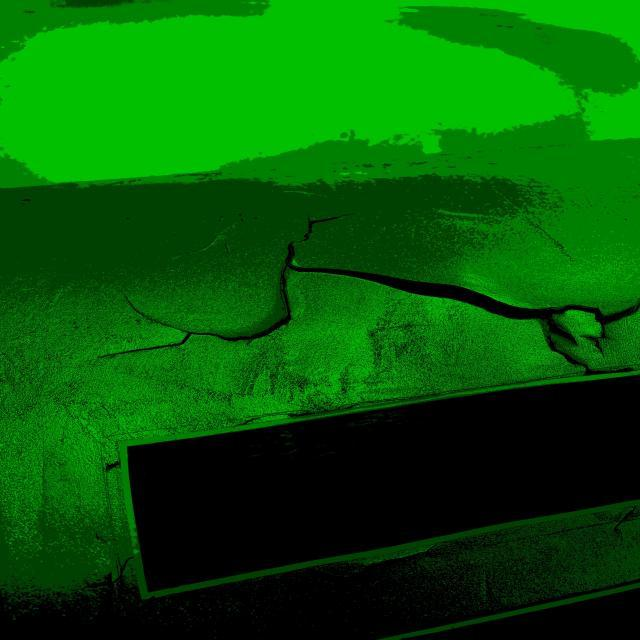crack: (269, 214, 636, 331), (101, 285, 271, 362), (183, 220, 252, 270)
